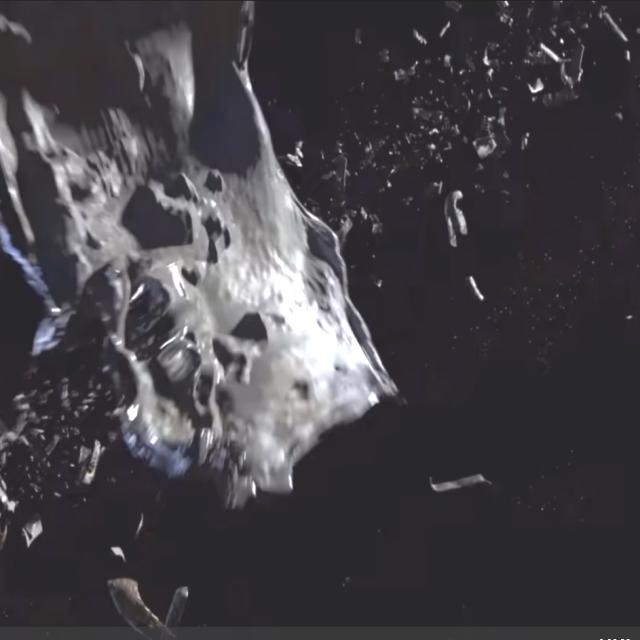large_debris: (2, 0, 401, 518), (101, 560, 206, 640), (428, 456, 496, 502), (434, 185, 473, 251), (13, 506, 54, 554)
